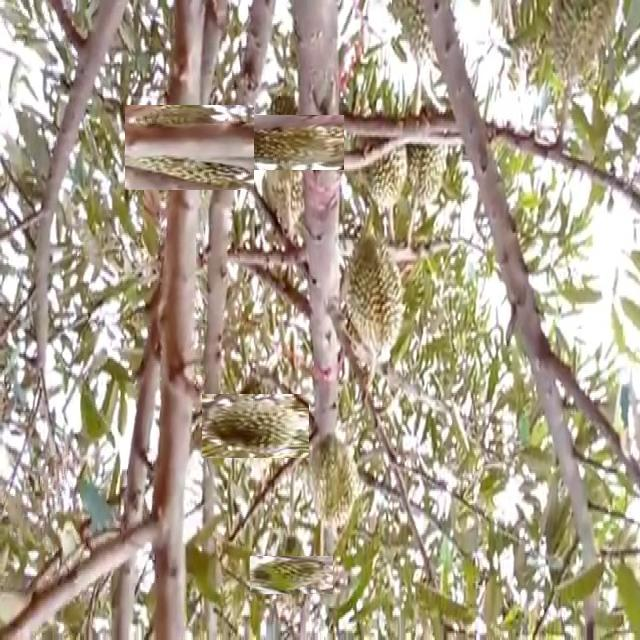durian: (136, 94, 244, 201), (342, 235, 408, 365), (212, 383, 298, 469), (244, 99, 329, 185), (546, 2, 626, 87), (404, 95, 456, 206), (357, 112, 409, 216), (304, 434, 356, 536), (260, 545, 322, 605)
